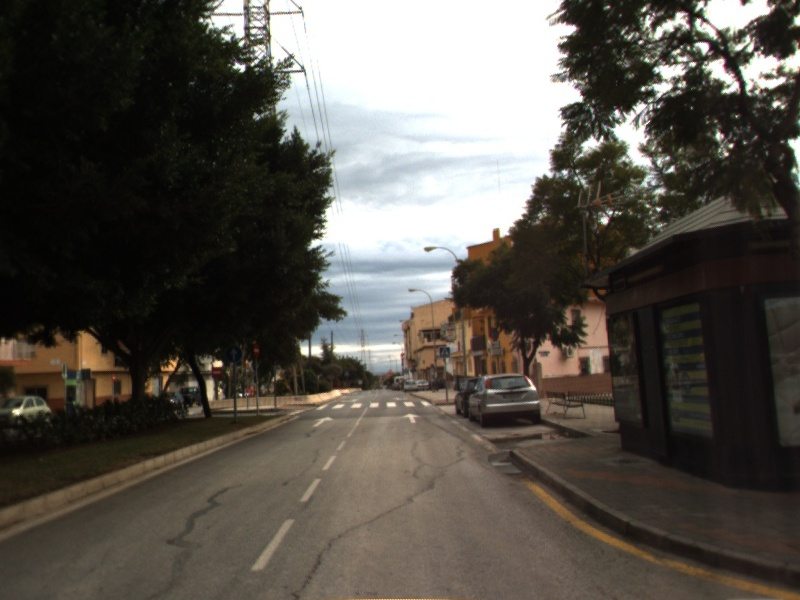STRAIGHT: (309, 415, 336, 429), (400, 411, 423, 425)
